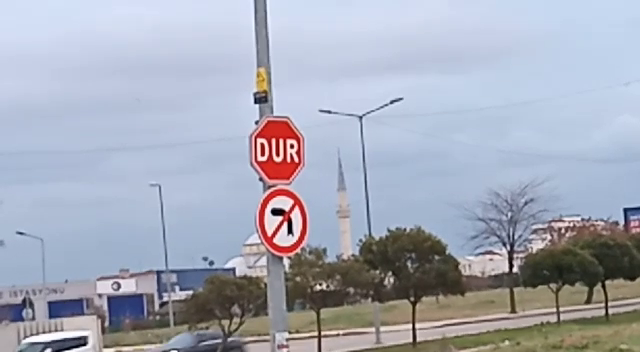no_left: (253, 184, 310, 261)
stop: (247, 112, 308, 188)
